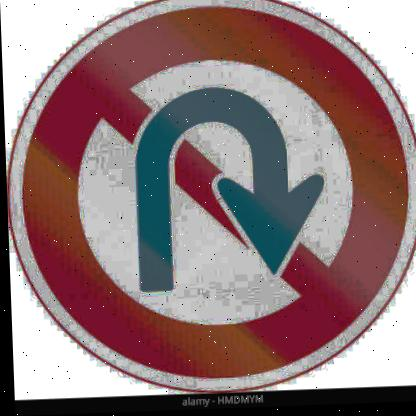No U-turn: (6, 0, 416, 394)
